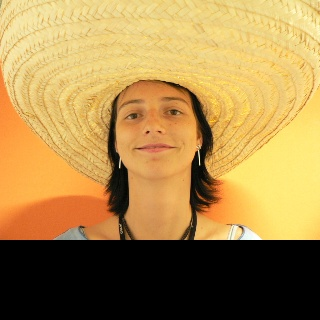without_mask: (115, 80, 197, 178)
